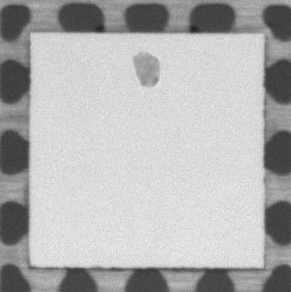DIE_INK: (128, 46, 163, 90)
